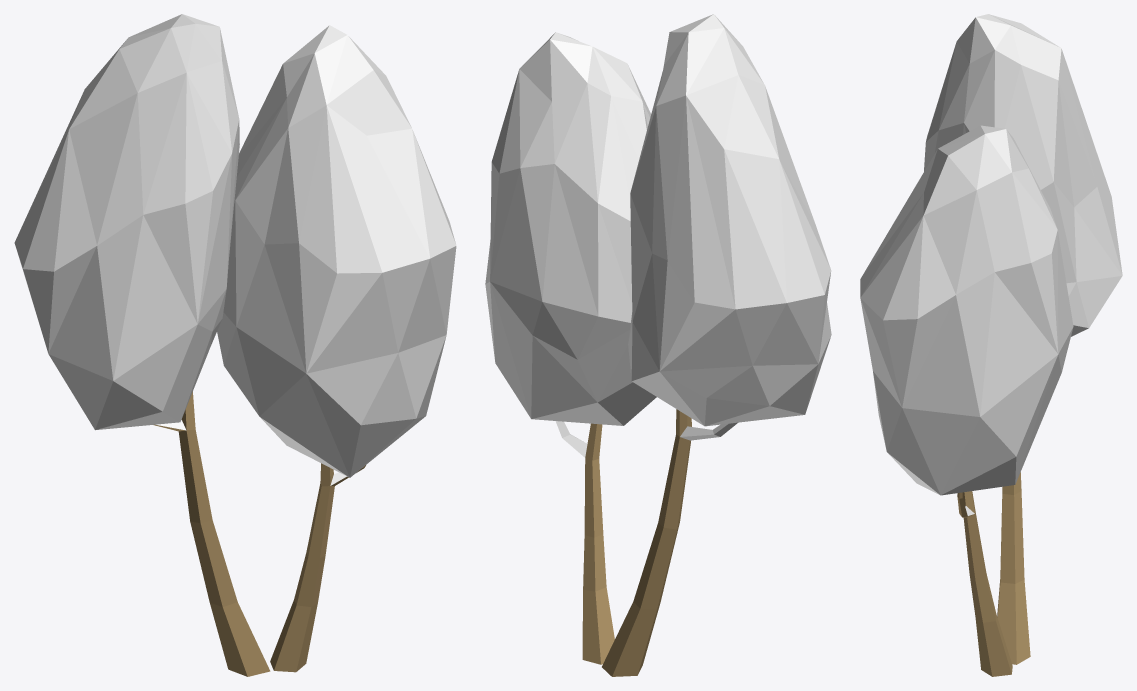
The model's file is Random_Tree_m_Snow_01.fbx.
3 renders of one model, left to right at view 1: azimuth 30°, elevation 25°; view 2: azimuth 150°, elevation 25°; view 3: azimuth 270°, elevation 25°, orthographic. The views are drawn at different scales.
Parts seen in each view (by area): view 1: Random_Tree_m_Snow_01; view 2: Random_Tree_m_Snow_01; view 3: Random_Tree_m_Snow_01.
Boxes of the visible parts, x1,y1,x2,y2 form: Random_Tree_m_Snow_01: (14,14,456,676); Random_Tree_m_Snow_01: (485,14,831,676); Random_Tree_m_Snow_01: (860,14,1122,676).
Size of the model in its own units: 586 by 1010 by 395.
